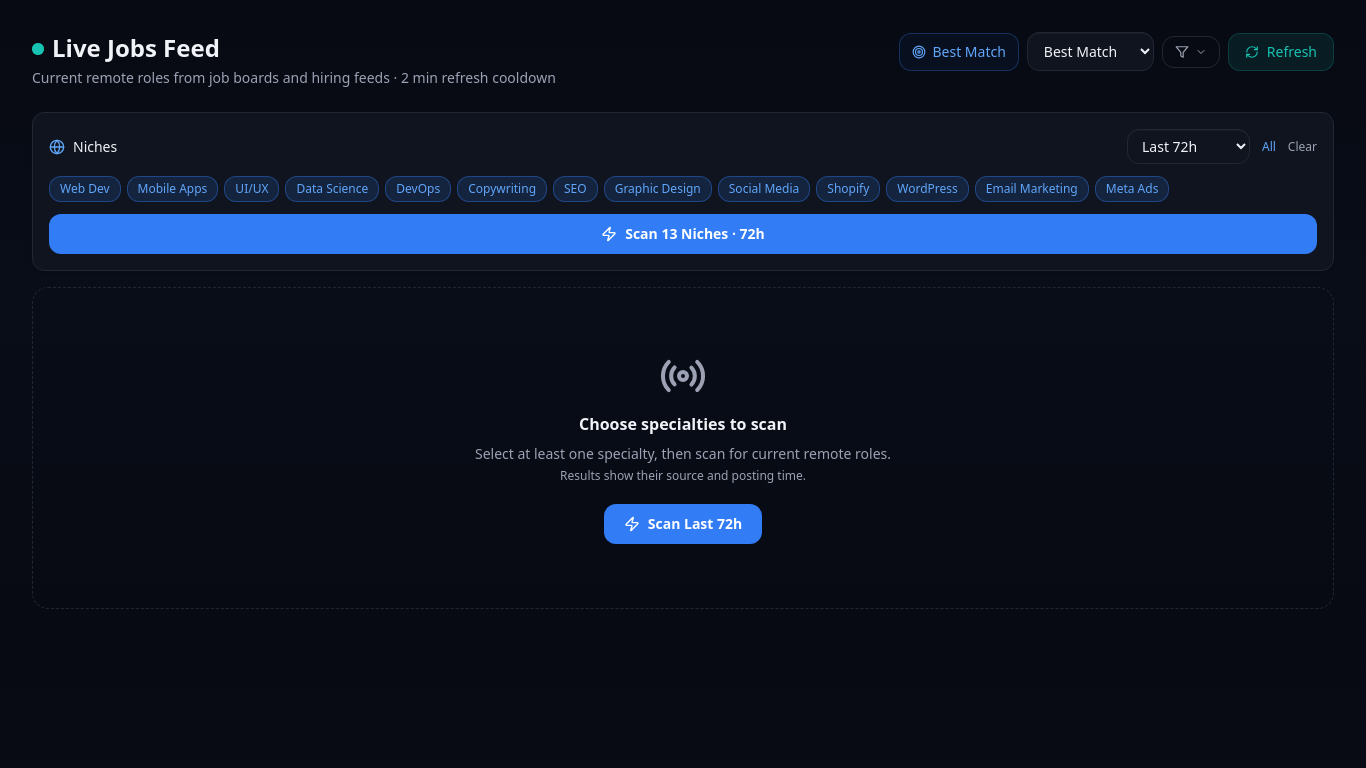
sends 72 hours immediately when the empty-state action overrides a different range
This screenshot has width=1366, height=768.
Select "Last 30 days" in the dropdown named "Posted within": (1188, 146) x1=1127 y1=129 x2=1250 y2=164
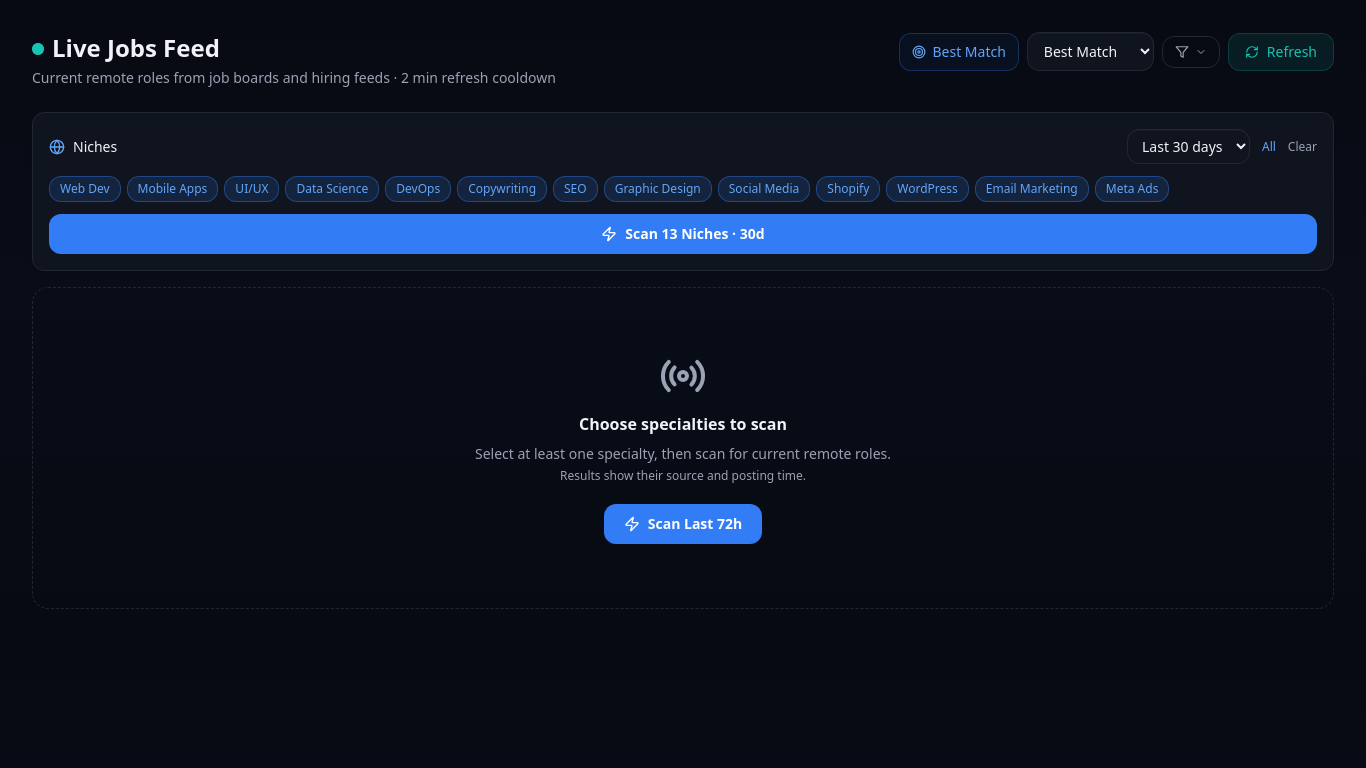
Click the button "Scan Last 72h": (683, 524) x1=604 y1=504 x2=762 y2=544
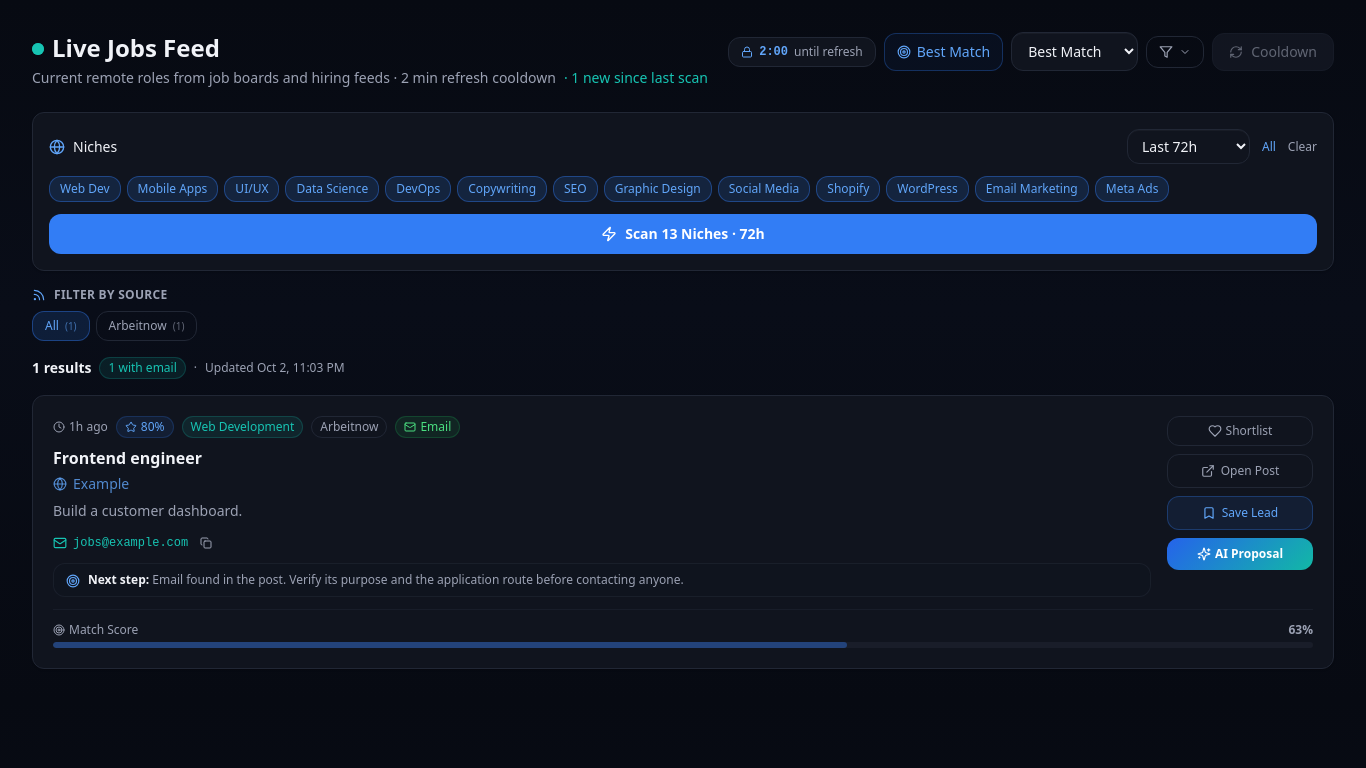
Now the heading "Frontend engineer" is shown, box x1=53 y1=447 x2=202 y2=469
